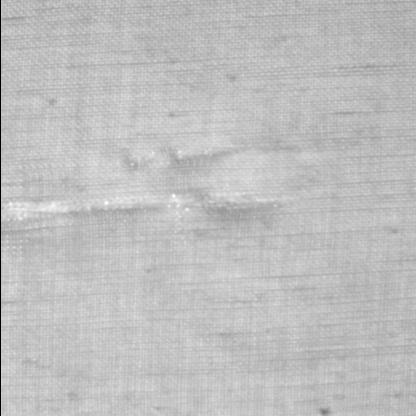thread error: (1, 184, 294, 246), (116, 131, 298, 179)
